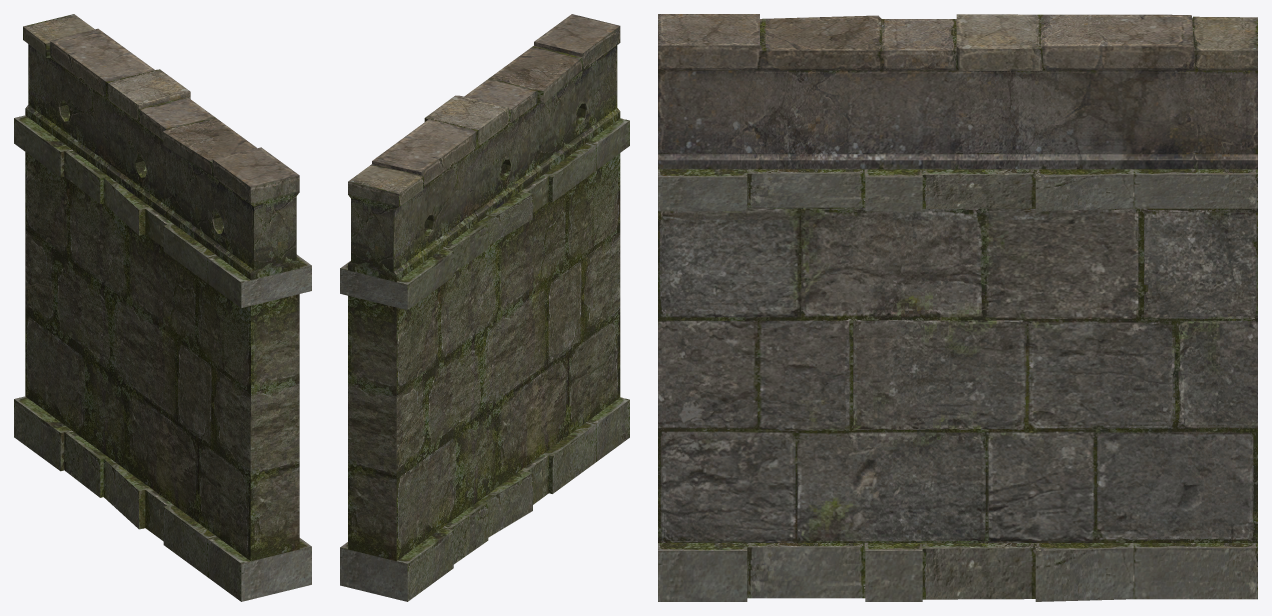
Rendered from bg_lut_lutomb_wall01_sm_old.FBX.
3 views of the same model, side by side, from view 1: azimuth 30°, elevation 25°; view 2: azimuth 150°, elevation 25°; view 3: azimuth 270°, elevation 25° (orthographic). The views are drawn at different scales.
Visible parts, largest first — view 1: bg_lut_lutomb_wall01_sm_old; view 2: bg_lut_lutomb_wall01_sm_old; view 3: bg_lut_lutomb_wall01_sm_old.
Part boxes in pixels (<box>): bg_lut_lutomb_wall01_sm_old: <box>14,14,311,601</box>; bg_lut_lutomb_wall01_sm_old: <box>340,14,629,601</box>; bg_lut_lutomb_wall01_sm_old: <box>658,14,1257,601</box>.
Size of the model in its own units: 95.57 by 517 by 512.
